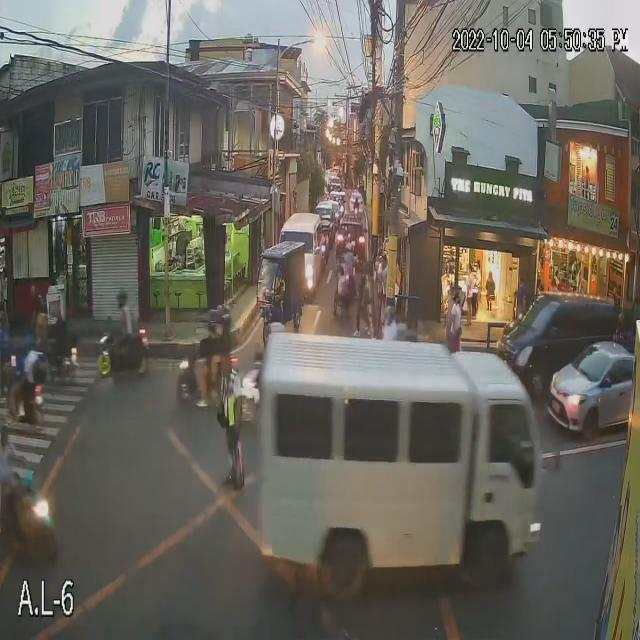helmet: (201, 314, 218, 338), (115, 288, 128, 308), (218, 305, 232, 322), (345, 241, 353, 257)
motorcycle: (0, 468, 57, 560), (177, 345, 233, 406), (97, 318, 146, 378), (240, 352, 277, 417), (8, 368, 45, 425), (40, 335, 77, 382), (334, 268, 360, 316)
rider: (209, 304, 234, 386), (195, 310, 220, 382), (0, 419, 20, 506), (112, 292, 139, 355), (344, 242, 357, 279)
